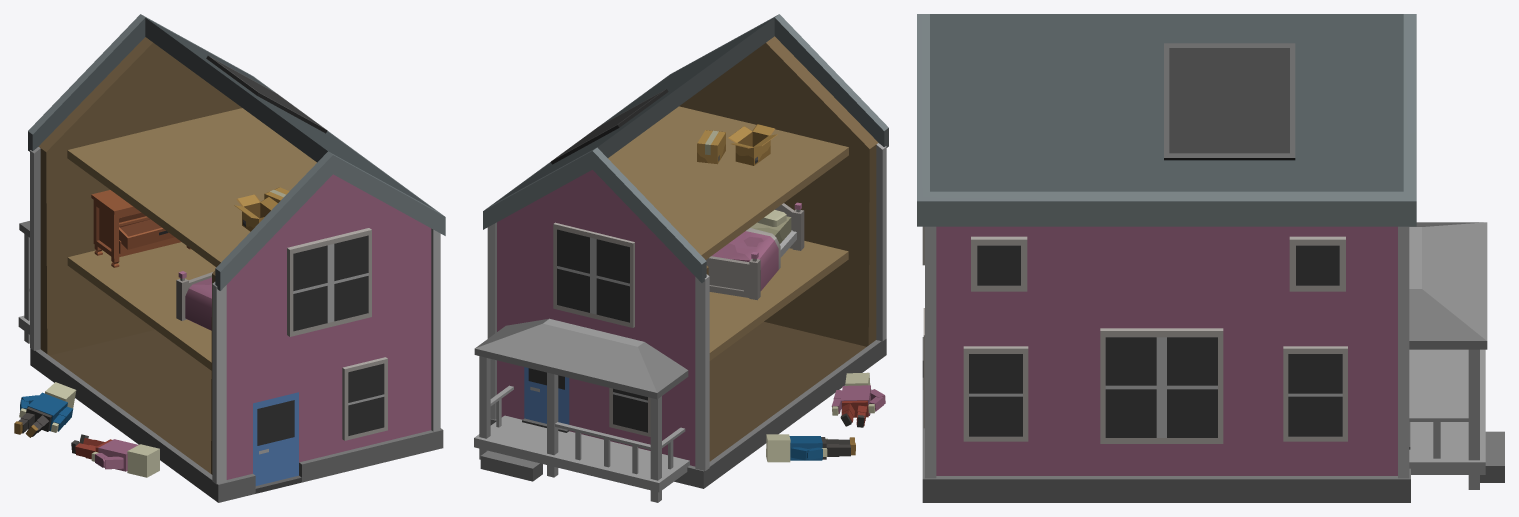
Rendered from AI_Prop_DollHouse.fbx.
3 renders of one model, left to right at view 1: azimuth 30°, elevation 25°; view 2: azimuth 150°, elevation 25°; view 3: azimuth 270°, elevation 25°, orthographic. The views are drawn at different scales.
Visible parts, largest first — view 1: AI_Prop_DollHouse; view 2: AI_Prop_DollHouse; view 3: AI_Prop_DollHouse.
Part boxes in pixels (x1,y1,x2,y2): AI_Prop_DollHouse: [14, 14, 445, 502]; AI_Prop_DollHouse: [474, 14, 888, 502]; AI_Prop_DollHouse: [917, 14, 1504, 502].
Bounding box in the file's own units: 1.75 × 1.75 × 2.2.
